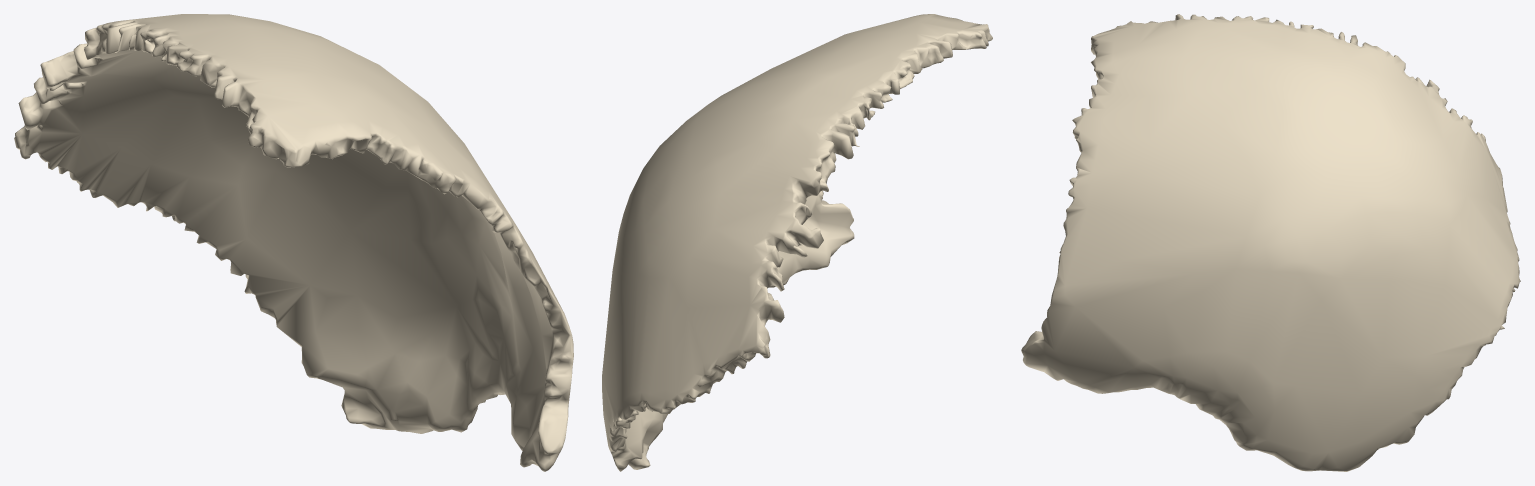
The model's file is parietal-bone-l.glb.
3 renders of one model, left to right at view 1: azimuth 30°, elevation 25°; view 2: azimuth 150°, elevation 25°; view 3: azimuth 270°, elevation 25°, orthographic. The views are drawn at different scales.
Visible parts, largest first — view 1: Parietal bone.l; view 2: Parietal bone.l; view 3: Parietal bone.l.
Boxes of the visible parts, x1,y1,x2,y2 form: Parietal bone.l: (14,14,573,471); Parietal bone.l: (602,14,992,471); Parietal bone.l: (1021,14,1520,471).
Bounding box in the file's own units: 0.0817 × 0.1157 × 0.1433.
